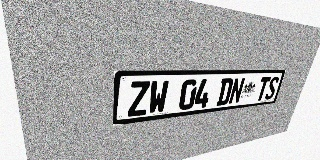0: (178, 79, 198, 111)
4: (193, 79, 213, 109)
D: (216, 78, 234, 106)
N: (228, 78, 246, 104)
S: (264, 76, 280, 100)
T: (255, 77, 271, 101)
W: (148, 80, 169, 114)
Z: (128, 81, 150, 117)
